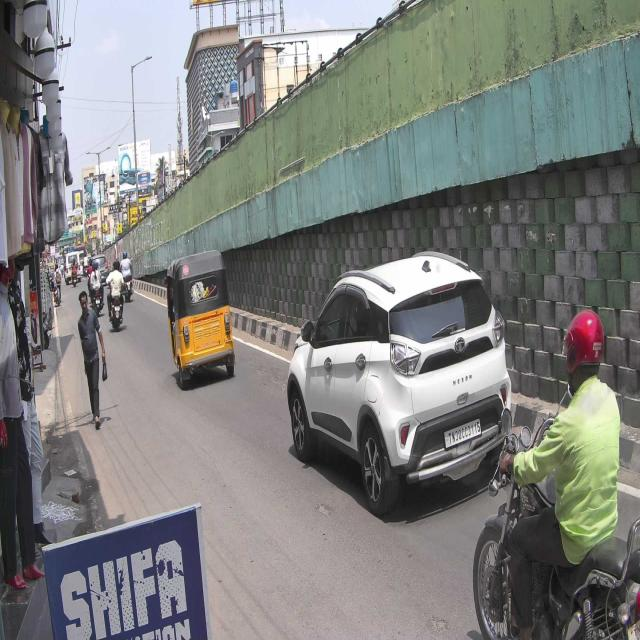single_rider: (472, 308, 640, 640)
